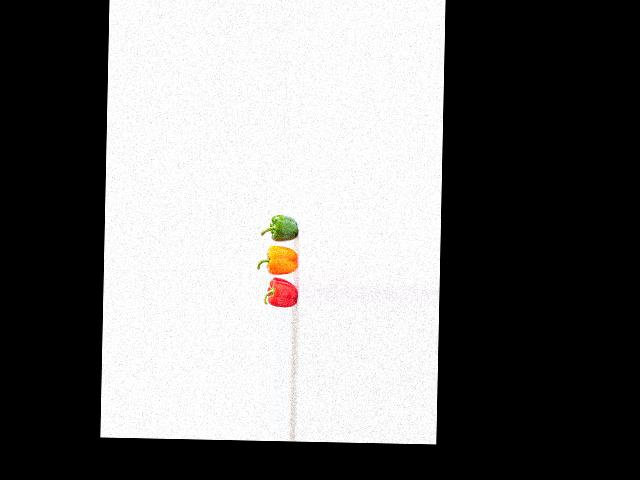bell_pepper: (256, 276, 297, 309)
